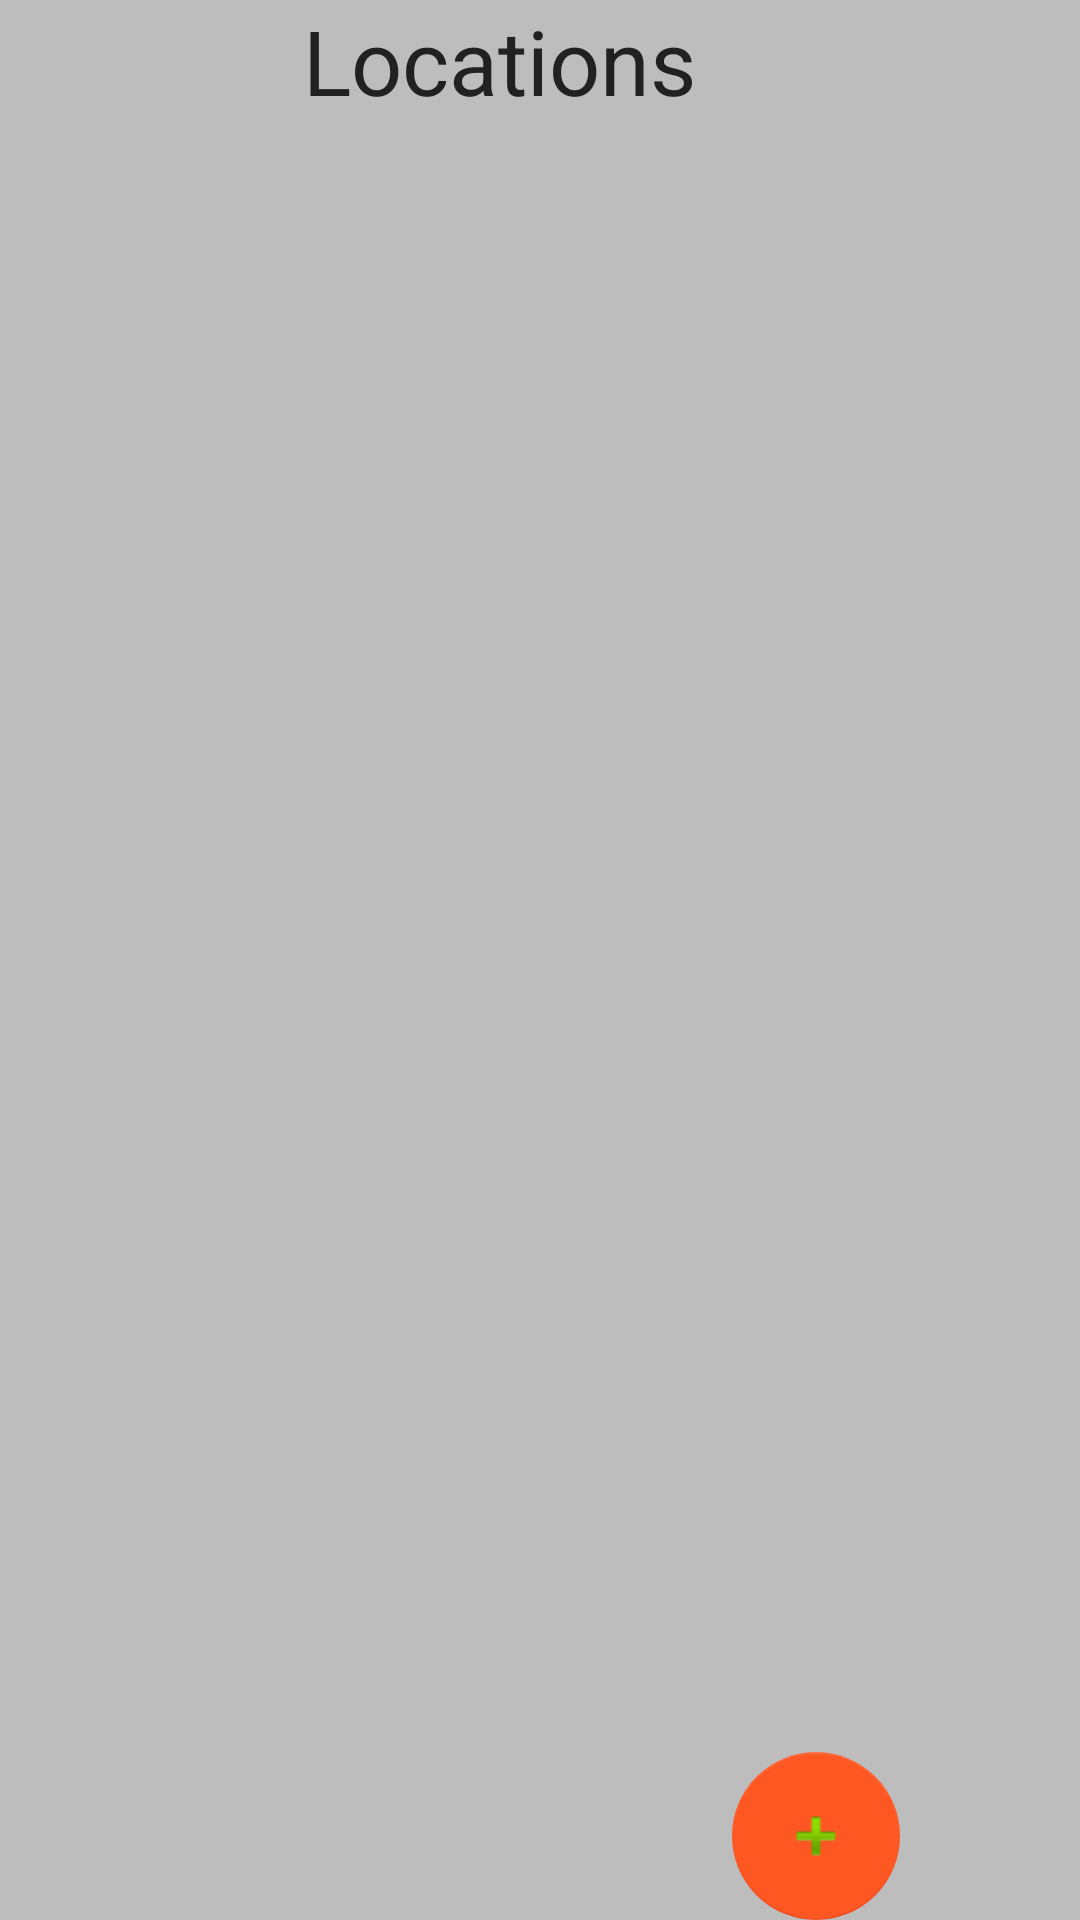

Icon bounding boxes for this 1080 x 1920 phone screenshot, format (x1, y1, x2, y2):
add: (732, 1752, 900, 1920)
